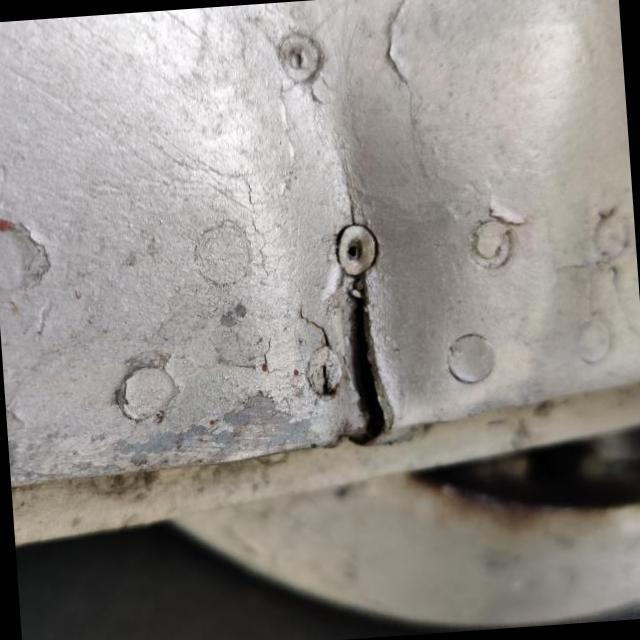Rupture: (292, 245, 432, 464)
